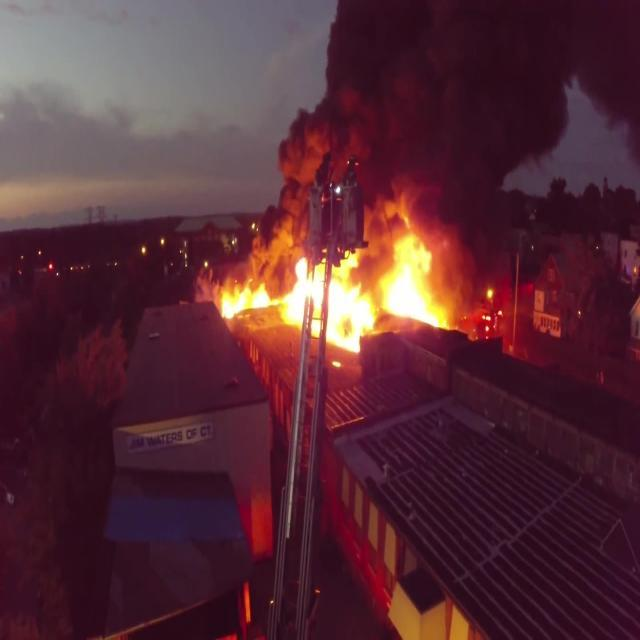Fire: (210, 232, 457, 372)
Smoke: (267, 2, 640, 228)
